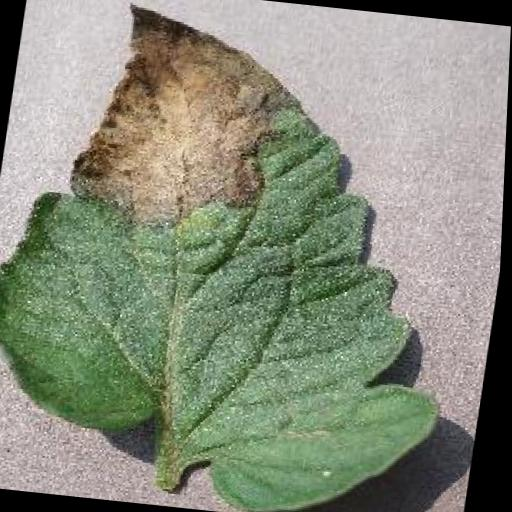Late Blight: (0, 0, 503, 512)
